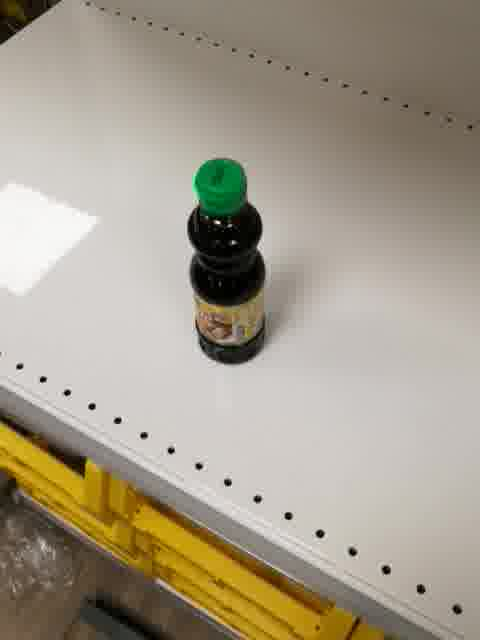cookingoil: (184, 155, 269, 368)
